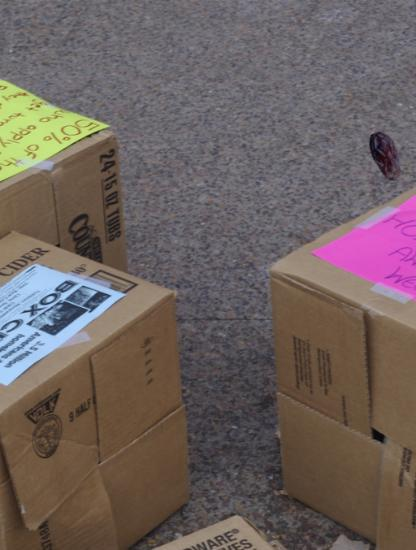Dates: (361, 131, 412, 182)
